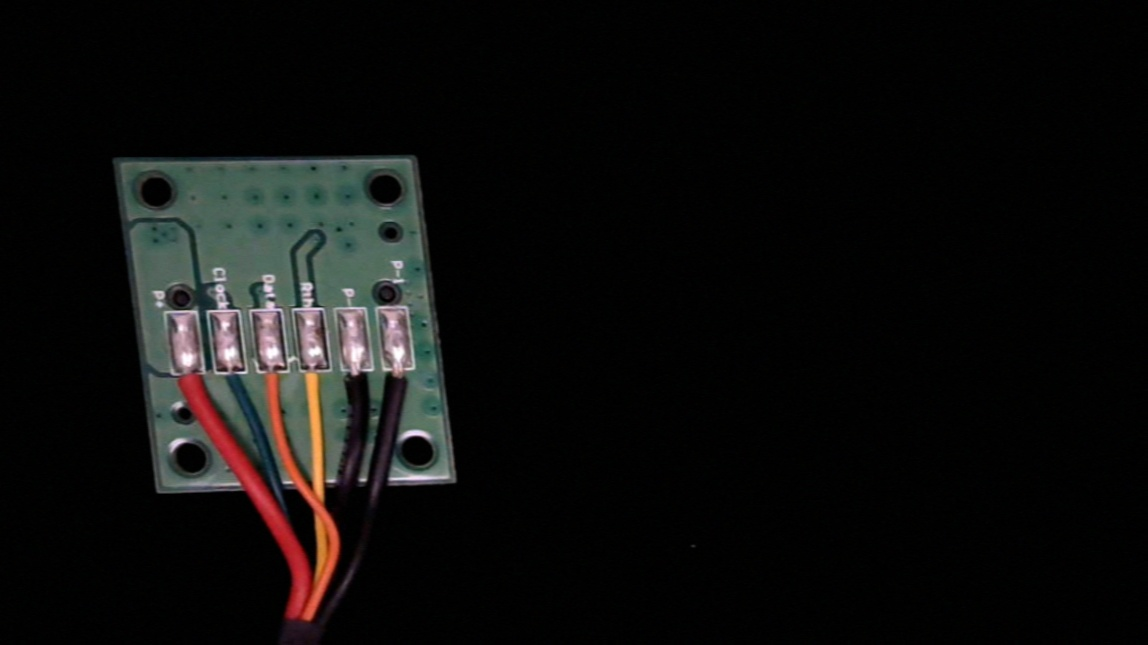Black: (340, 359, 378, 423)
Black1: (383, 358, 421, 417)
Green: (213, 361, 254, 421)
Orange: (255, 361, 295, 426)
Red: (171, 364, 215, 420)
Yellow: (295, 360, 337, 421)
